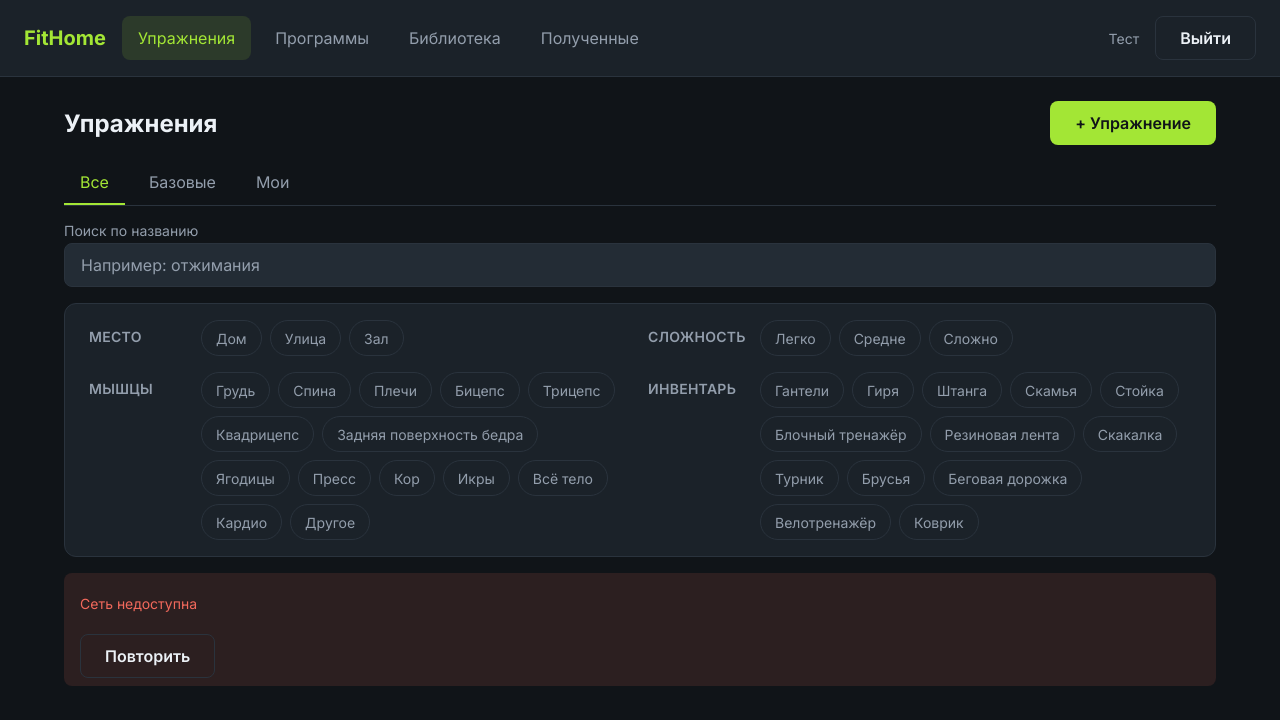
Scenario: ExercisesPage — каталог › ошибка API → баннер с кнопкой «Повторить», повтор успешен
Expected: the message shows "Сеть недоступна", [80,595,197,612]
Click the button "Повторить".
click(148, 656)  # box [80,634,215,678]
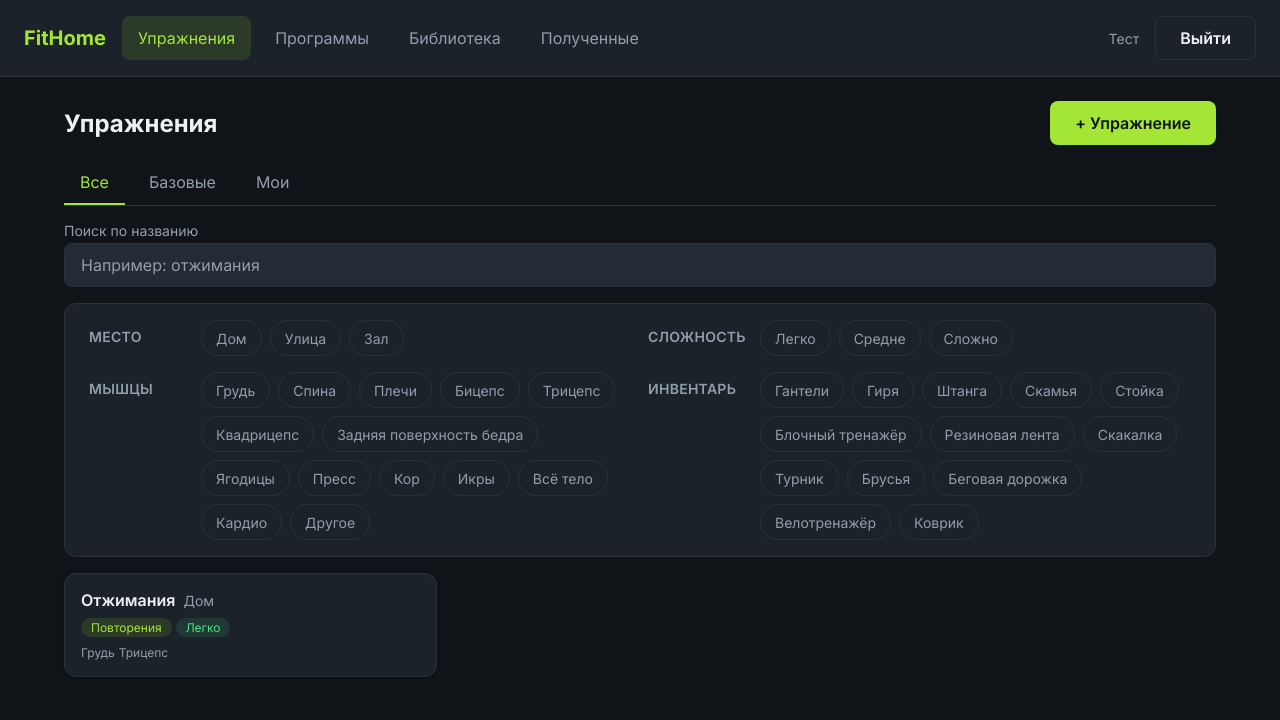
Expected: the text "Отжимания" is shown, [81,590,175,610]
